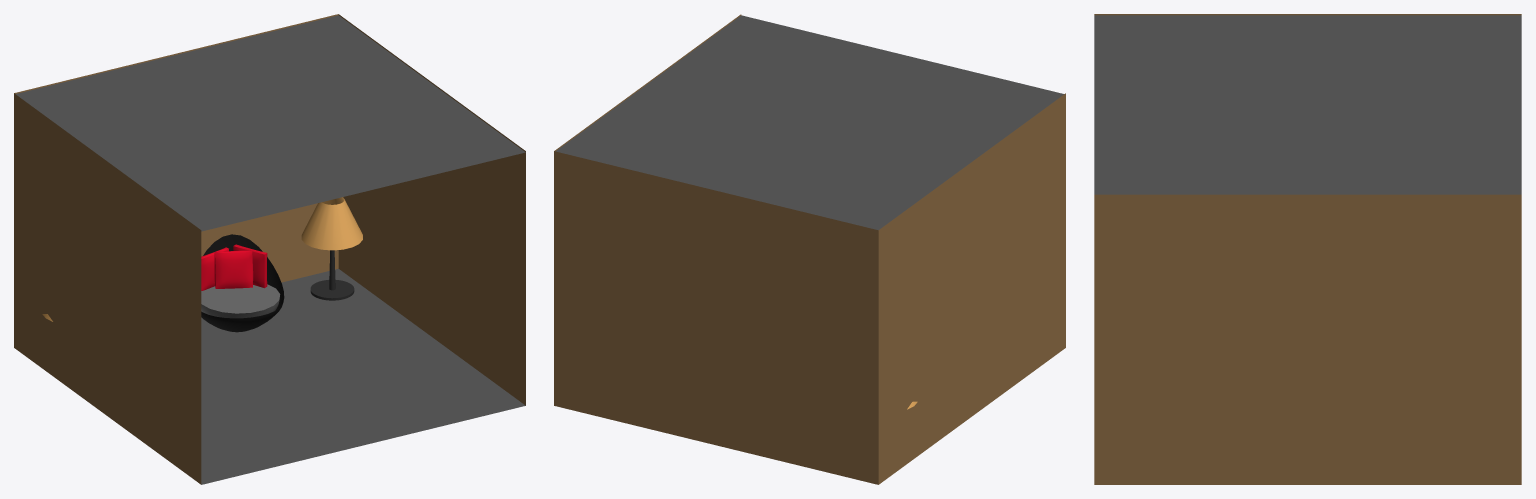
File: Interior.gltf
The picture shows the model from 3 angles, left to right: view 1: azimuth 30°, elevation 25°; view 2: azimuth 150°, elevation 25°; view 3: azimuth 270°, elevation 25°; orthographic projection. The views are drawn at different scales.
Parts seen in each view (by area): view 1: wall, floor.001, floor, Cylinder006, Cylinder002, Sphere002, Box006, Cylinder007, Box005; view 2: wall, floor.001; view 3: wall, floor.001.
Part boxes in pixels (x1,y1,x2,y2): wall: (14, 14, 525, 484); floor.001: (15, 15, 525, 231); floor: (201, 268, 525, 484); Cylinder006: (301, 197, 362, 250); Cylinder002: (201, 284, 280, 318); Sphere002: (201, 234, 284, 332); Box006: (214, 250, 253, 288); Cylinder007: (310, 250, 354, 300); Box005: (233, 244, 267, 288); wall: (554, 14, 1065, 484); floor.001: (556, 15, 1064, 230); wall: (1094, 14, 1521, 484); floor.001: (1094, 15, 1521, 194).
Size of what is drawn, in the model's own units: 4.02 by 3 by 4.
